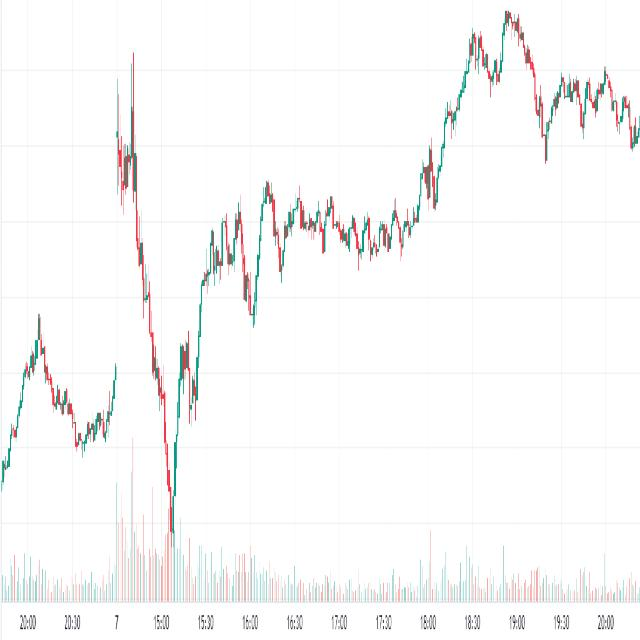Inverse-Head-Shoulders: (134, 287, 208, 543)
